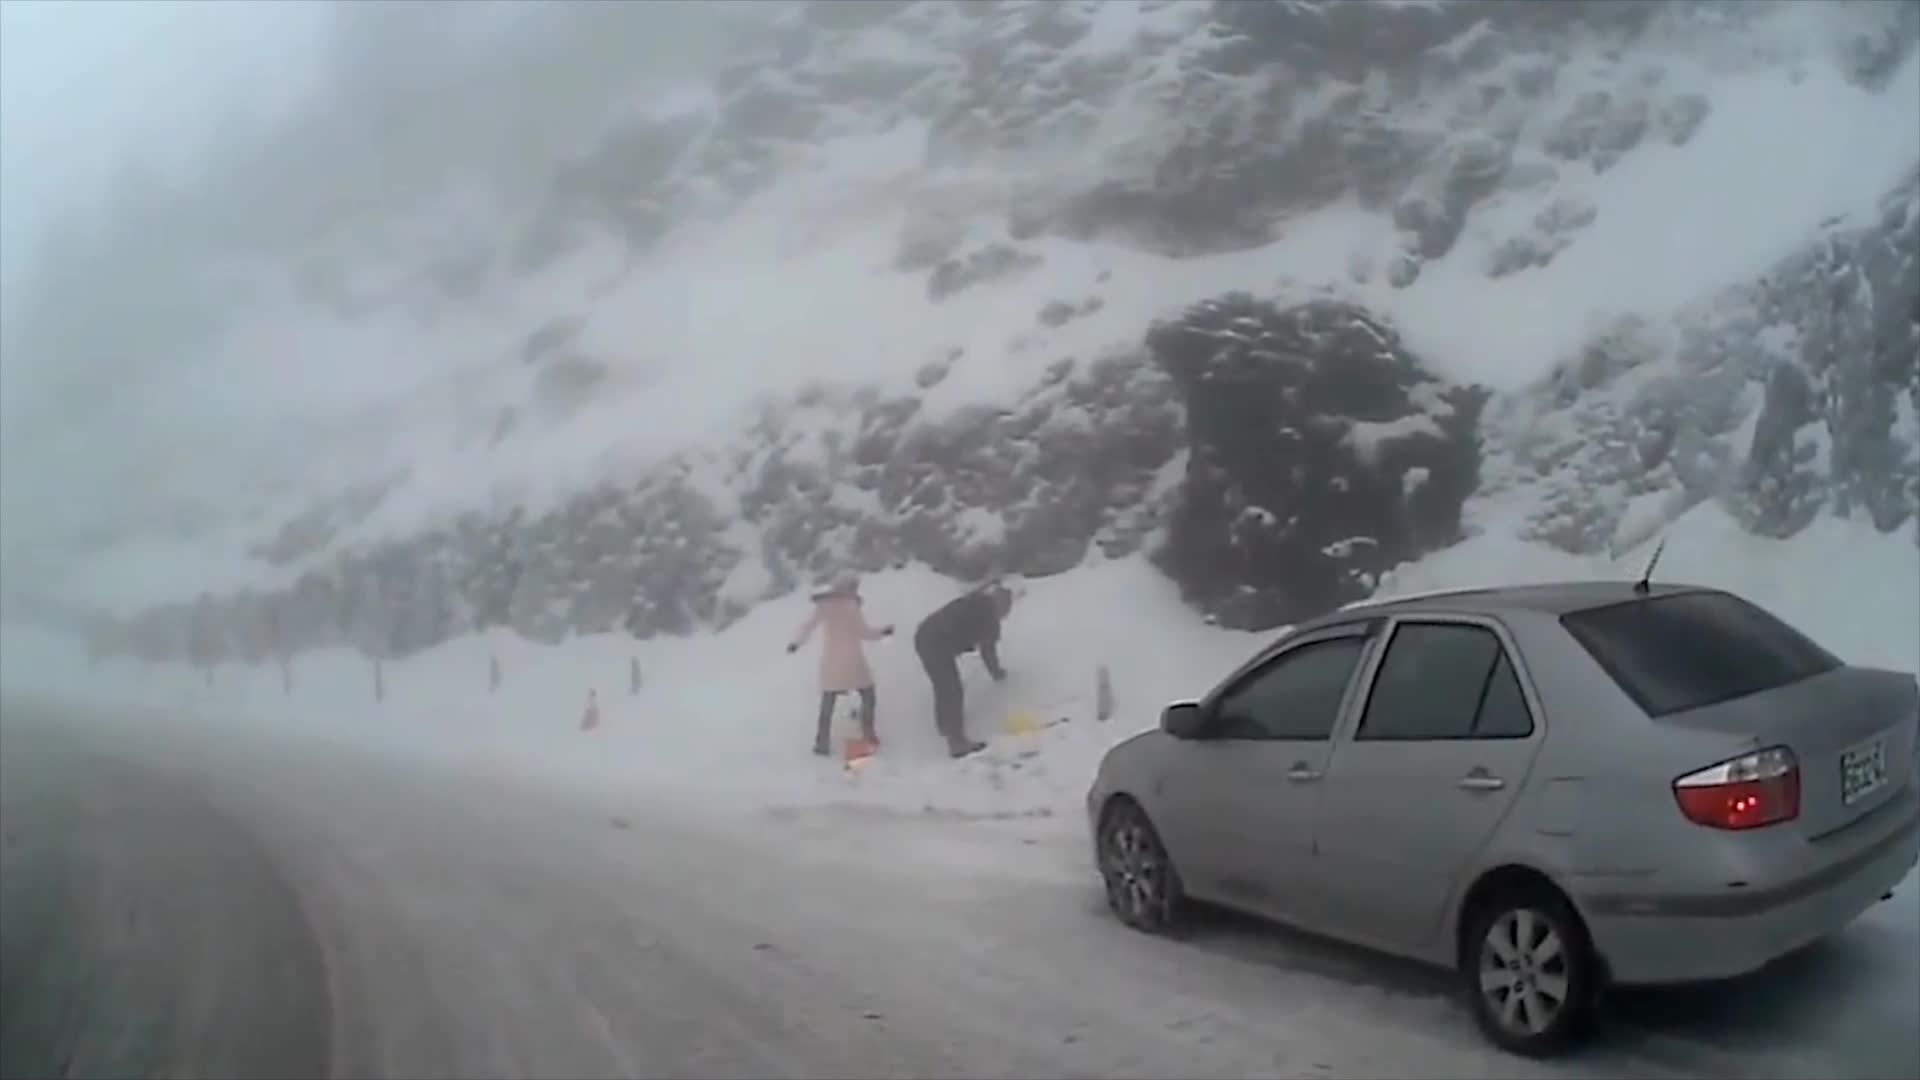pedestrian: (795, 567, 898, 759), (917, 585, 1018, 757)
vehicle: (1088, 577, 1911, 1059)
